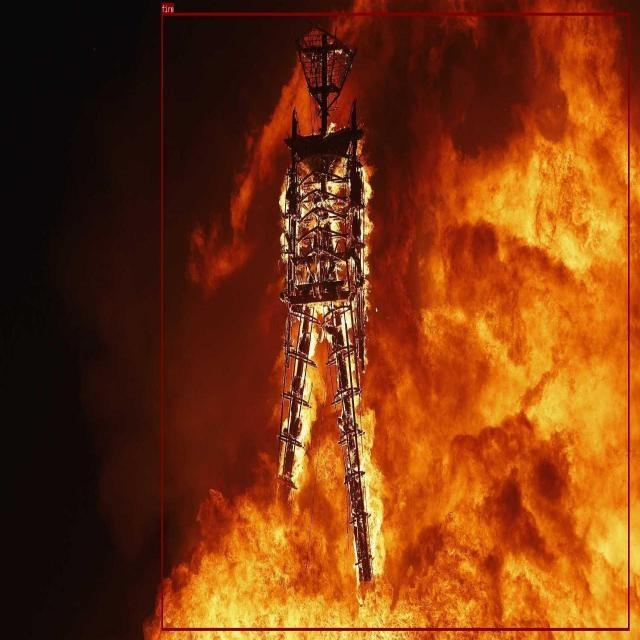fire: (161, 13, 629, 630)
